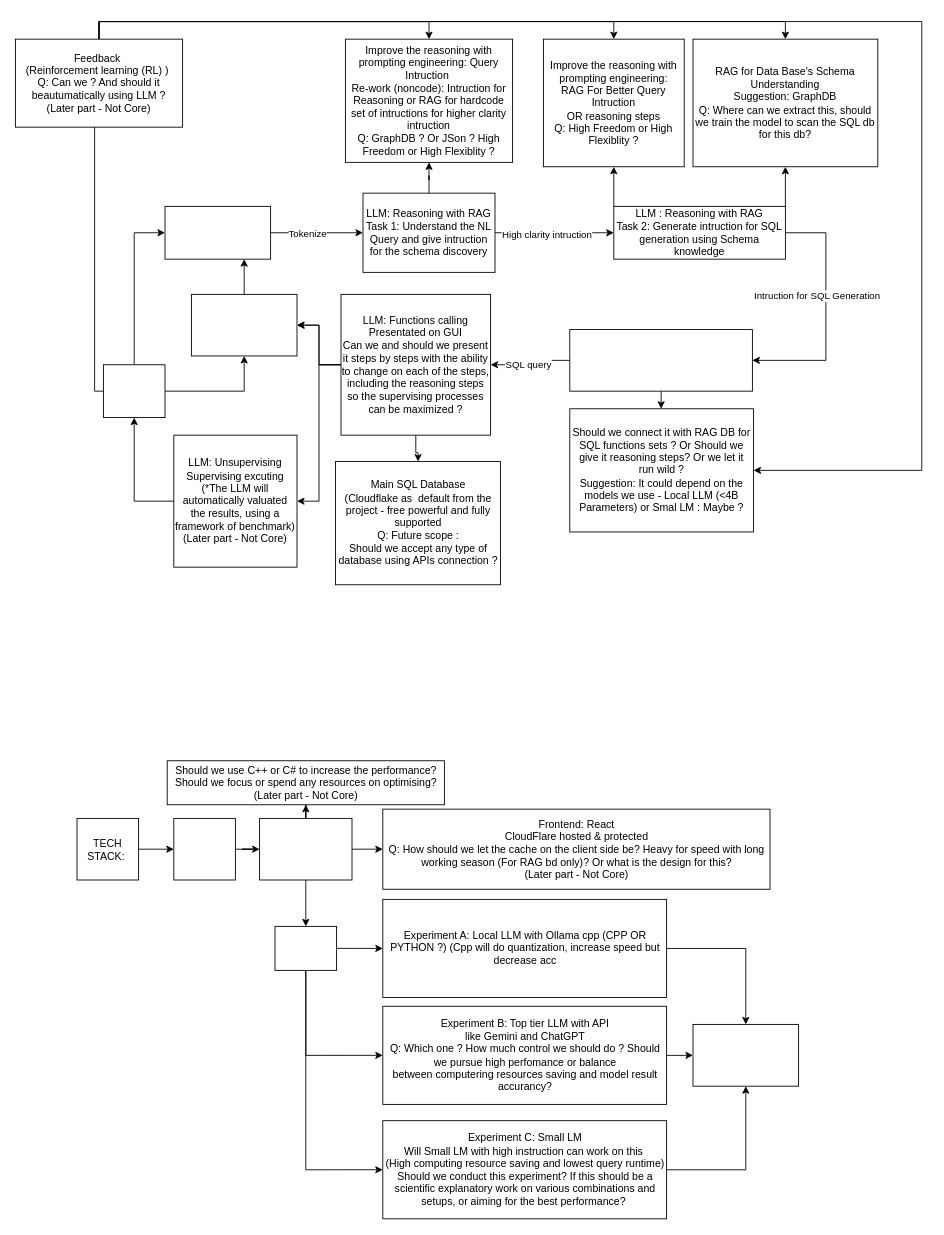
The diagram is 944 pixels wide and 1235 high, and some of its shapes have lost their labels. The centre of each missing label's shape, as x and y in pixels:
AND/OR ? (Later part - Not Core): pixel 134 391
Backend: Django CloudFlare hosted & protected: pixel 305 849
Data, including RAG SnowFlake: pixel 204 849
Fine turning or not fine turning ? (Later part - Not Core): pixel 745 1055
LLM: pixel 305 947
LLM: Generate SQL query: pixel 660 360
Natural Language Query: pixel 217 232
User Supervising User Usage User feedback: pixel 244 324
